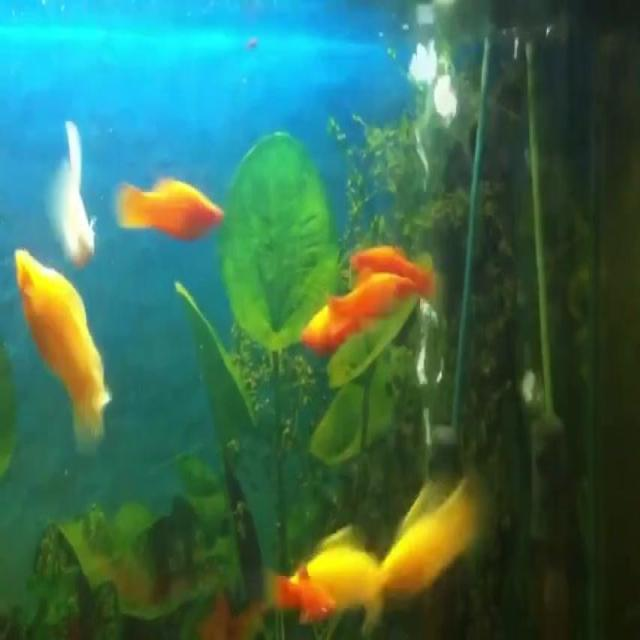PlatyFish: (7, 236, 114, 477), (107, 168, 233, 245)
